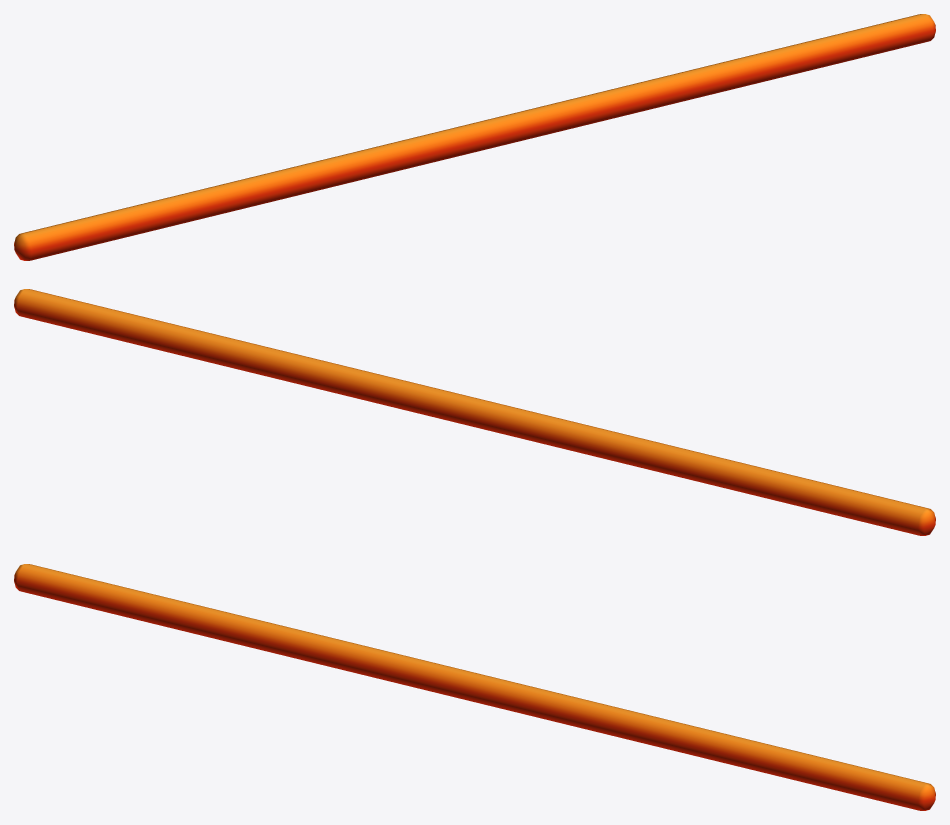
File: laser.fbx
3 views of the same model, one above another, from view 1: azimuth 30°, elevation 25°; view 2: azimuth 150°, elevation 25°; view 3: azimuth 330°, elevation 25° (orthographic).
Visible parts, largest first — view 1: Laser; view 2: Laser; view 3: Laser.
Boxes of the visible parts, bbox=[...] form: Laser: bbox=[14, 14, 935, 260]; Laser: bbox=[14, 289, 935, 535]; Laser: bbox=[14, 564, 935, 810].
Bounding box in the file's own units: 391 × 11.03 × 11.03.
